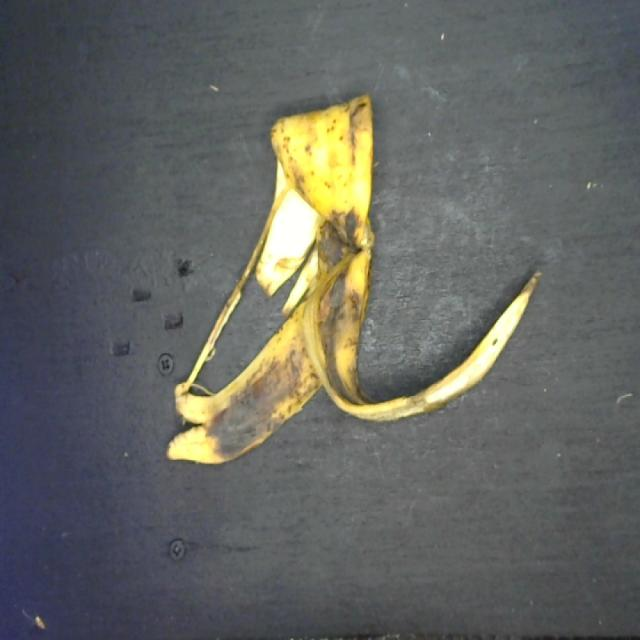biodegradable: (165, 97, 544, 476)
